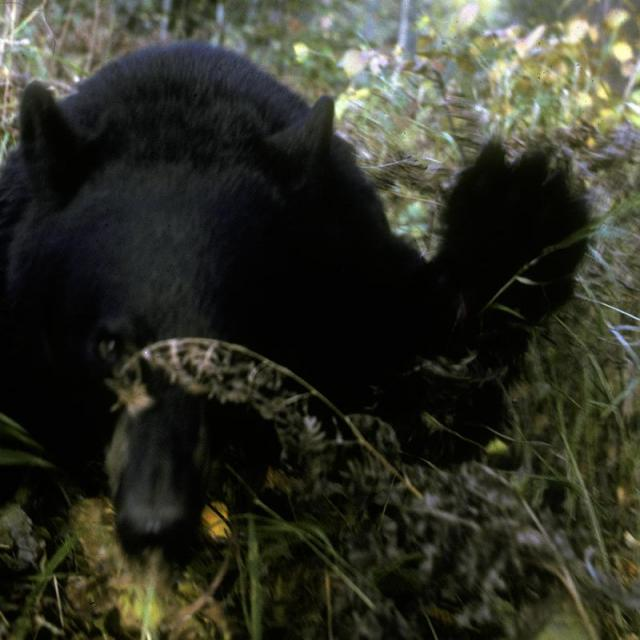Bear: (0, 40, 593, 584)
